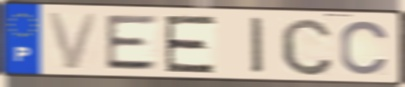C: (278, 16, 336, 78), (338, 19, 392, 77)
E: (162, 14, 219, 75), (103, 14, 161, 72)
I: (248, 15, 267, 76)
V: (44, 10, 102, 72)
